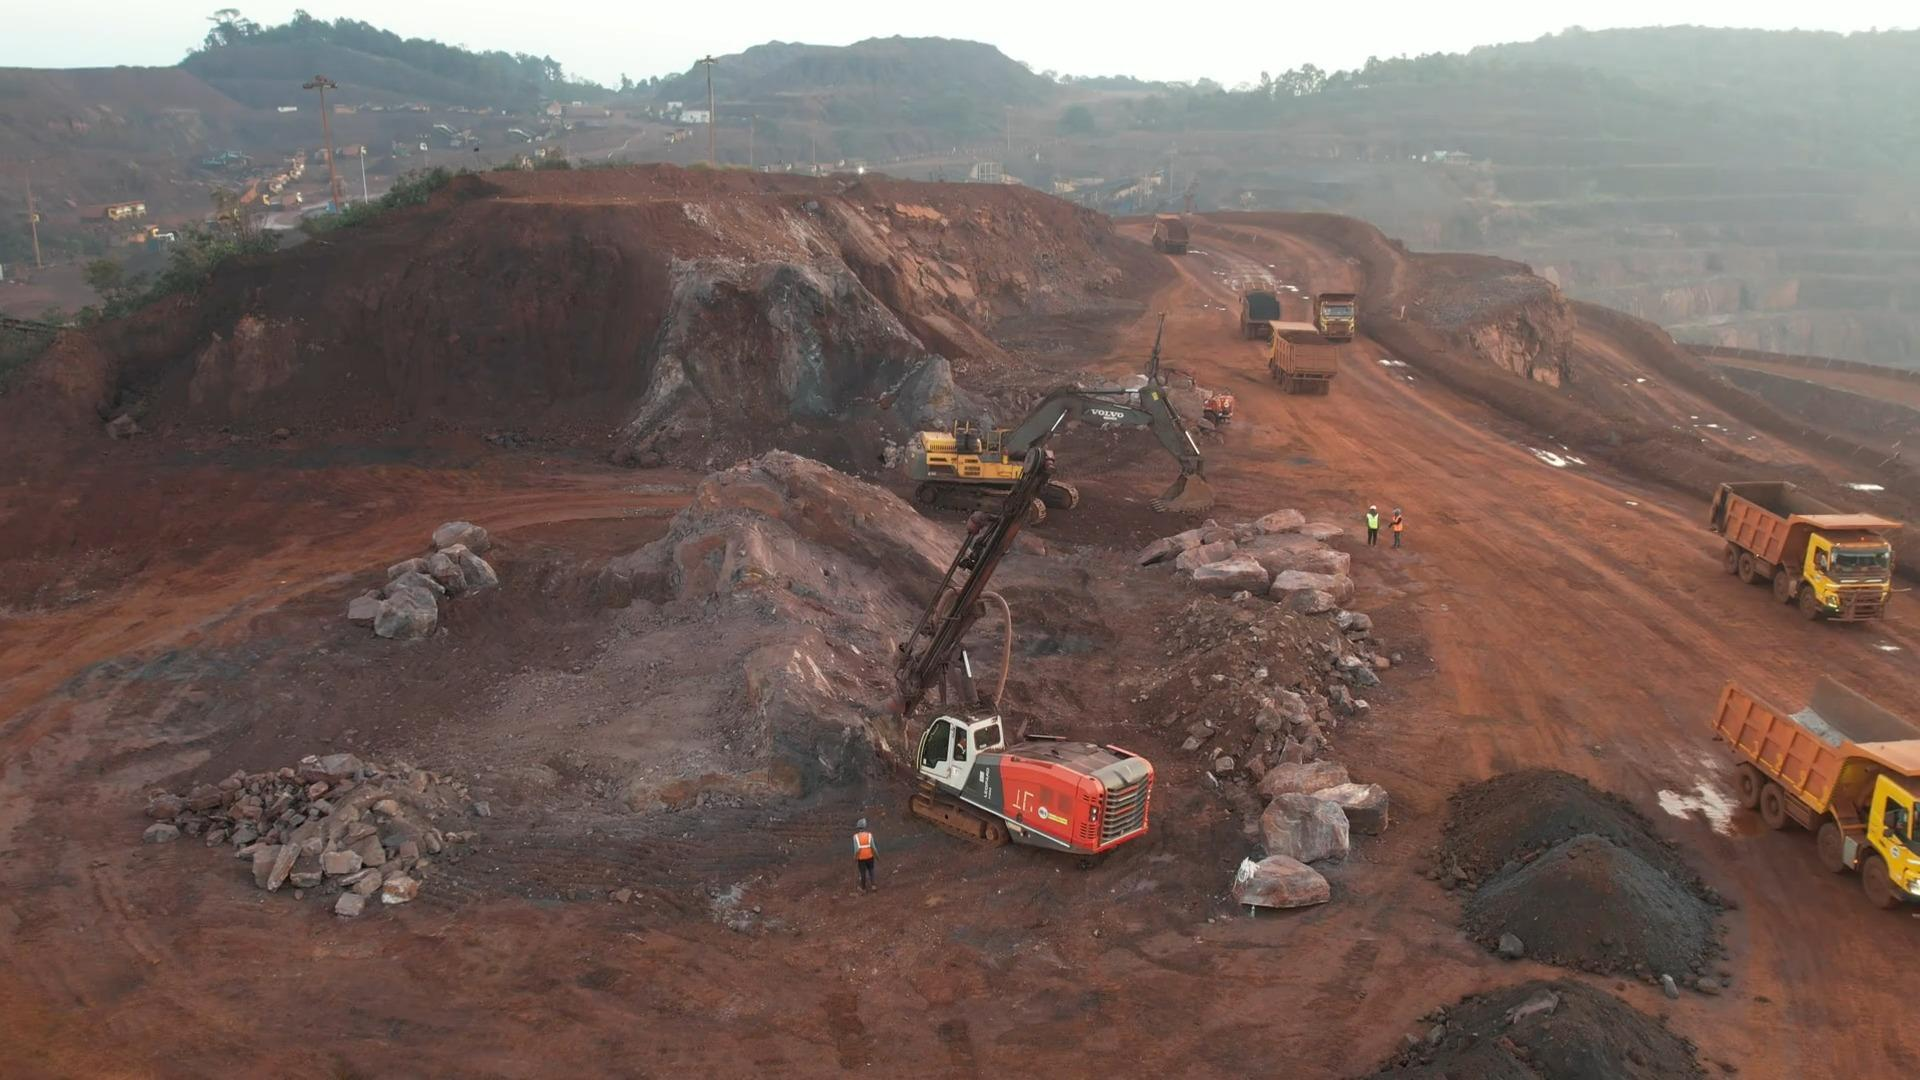excavator: (916, 382, 1201, 513)
